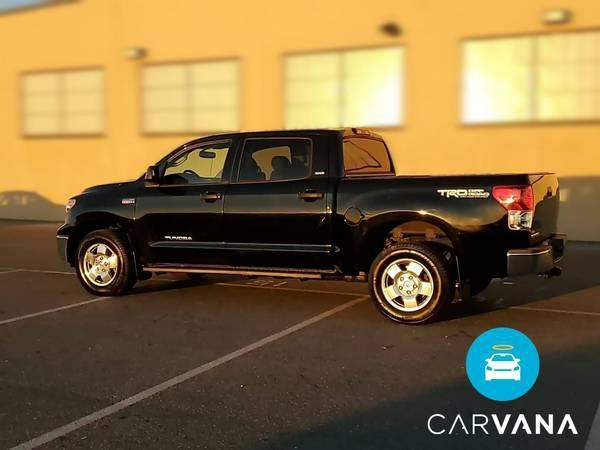Front_Bumper: (56, 237, 71, 265)
Front_Fender: (57, 184, 144, 266)
Front_Left_Door: (136, 182, 233, 266)
Front_Left_Window: (151, 141, 243, 181)
Left_Taillight: (493, 187, 535, 233)
Rear_Bumper: (504, 234, 567, 277)
Rear_Fender: (335, 174, 531, 277)
Rear_Left_Door: (228, 178, 337, 271)
Rear_Left_Window: (236, 139, 310, 181)
Rear_Windshield: (343, 136, 393, 176)
Roof: (144, 128, 384, 179)
Tailgate: (529, 175, 561, 246)
Wheel: (370, 241, 452, 322), (75, 229, 135, 297)
